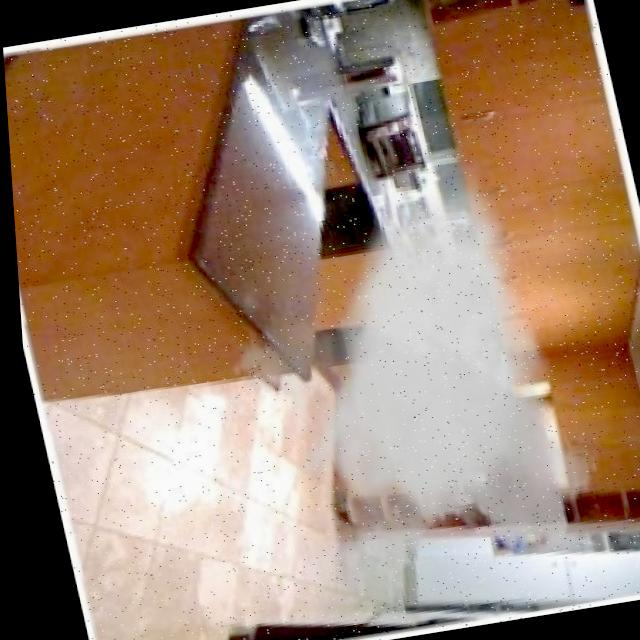no_helmet: (274, 156, 605, 524)
